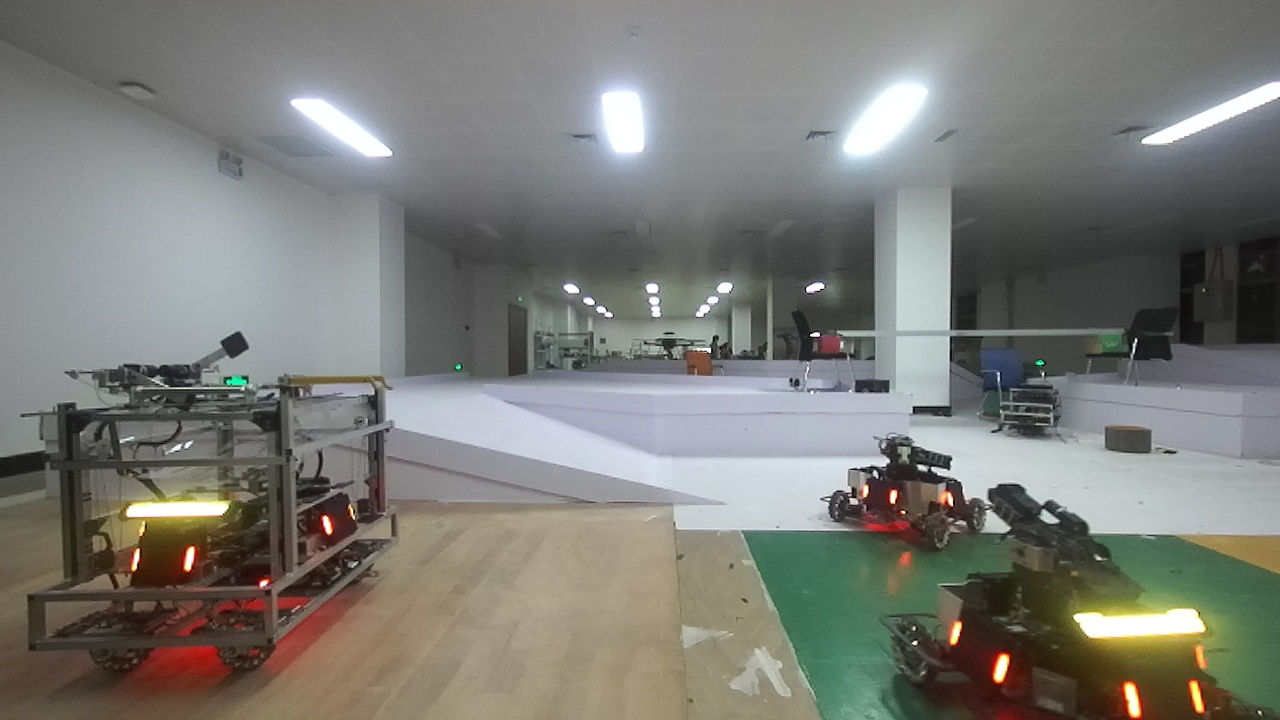car: (1, 352, 409, 689), (908, 490, 1280, 720), (810, 433, 986, 551)
